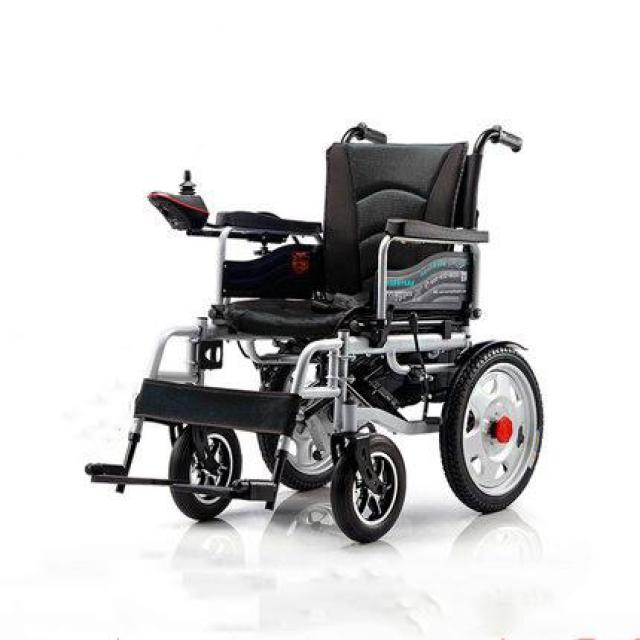wheelchairs: (82, 103, 557, 559)
